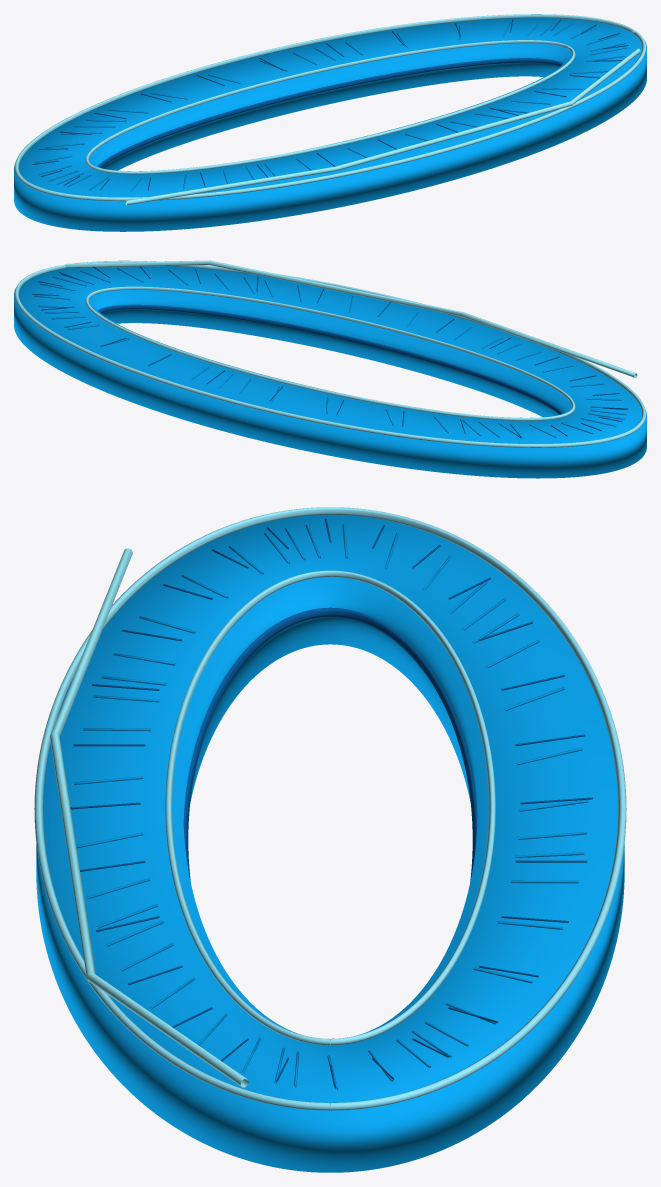
Rendered from Widerstandsband_3D_v2.glb.
3 renders of one model, top to bottom at view 1: azimuth 30°, elevation 25°; view 2: azimuth 150°, elevation 25°; view 3: azimuth 270°, elevation 25°, orthographic. The views are drawn at different scales.
Visible parts, largest first — view 1: Widerstandsband_3D_v2__web_glossy_blue_elastic_resistance_ba, Widerstandsband_3D_v2__web_pale_cyan_stretched_highlight_on_, Widerstandsband_3D_v2__web_v2_extra_glossy_cyan_resistance_b, Widerstandsband_3D_v2__web_darker_blue_shadowed_inner_resist, Widerstandsband_3D_v2__web_subtle_woven_diagonal_texture_on_, Widerstandsband_3D_v2__web_v2_extra_darker_blue_resistance_b; view 2: Widerstandsband_3D_v2__web_glossy_blue_elastic_resistance_ba, Widerstandsband_3D_v2__web_pale_cyan_stretched_highlight_on_, Widerstandsband_3D_v2__web_v2_extra_glossy_cyan_resistance_b, Widerstandsband_3D_v2__web_darker_blue_shadowed_inner_resist, Widerstandsband_3D_v2__web_subtle_woven_diagonal_texture_on_, Widerstandsband_3D_v2__web_v2_extra_darker_blue_resistance_b; view 3: Widerstandsband_3D_v2__web_glossy_blue_elastic_resistance_ba, Widerstandsband_3D_v2__web_pale_cyan_stretched_highlight_on_, Widerstandsband_3D_v2__web_subtle_woven_diagonal_texture_on_, Widerstandsband_3D_v2__web_v2_extra_glossy_cyan_resistance_b, Widerstandsband_3D_v2__web_darker_blue_shadowed_inner_resist, Widerstandsband_3D_v2__web_v2_extra_darker_blue_resistance_b.
Part boxes in pixels (box(x1,y1,x2,y2)): Widerstandsband_3D_v2__web_glossy_blue_elastic_resistance_ba: box(14, 18, 646, 231); Widerstandsband_3D_v2__web_pale_cyan_stretched_highlight_on_: box(14, 14, 646, 201); Widerstandsband_3D_v2__web_v2_extra_glossy_cyan_resistance_b: box(125, 48, 640, 205); Widerstandsband_3D_v2__web_darker_blue_shadowed_inner_resist: box(98, 58, 562, 167); Widerstandsband_3D_v2__web_subtle_woven_diagonal_texture_on_: box(34, 21, 626, 191); Widerstandsband_3D_v2__web_v2_extra_darker_blue_resistance_b: box(32, 19, 628, 190); Widerstandsband_3D_v2__web_glossy_blue_elastic_resistance_ba: box(14, 266, 646, 478); Widerstandsband_3D_v2__web_pale_cyan_stretched_highlight_on_: box(14, 260, 646, 447); Widerstandsband_3D_v2__web_v2_extra_glossy_cyan_resistance_b: box(65, 260, 637, 377); Widerstandsband_3D_v2__web_darker_blue_shadowed_inner_resist: box(98, 304, 562, 414); Widerstandsband_3D_v2__web_subtle_woven_diagonal_texture_on_: box(34, 268, 626, 438); Widerstandsband_3D_v2__web_v2_extra_darker_blue_resistance_b: box(32, 266, 628, 437); Widerstandsband_3D_v2__web_glossy_blue_elastic_resistance_ba: box(36, 514, 624, 1172); Widerstandsband_3D_v2__web_pale_cyan_stretched_highlight_on_: box(34, 507, 626, 1110); Widerstandsband_3D_v2__web_subtle_woven_diagonal_texture_on_: box(73, 524, 588, 1089); Widerstandsband_3D_v2__web_v2_extra_glossy_cyan_resistance_b: box(50, 548, 248, 1087); Widerstandsband_3D_v2__web_darker_blue_shadowed_inner_resist: box(183, 607, 477, 882); Widerstandsband_3D_v2__web_v2_extra_darker_blue_resistance_b: box(70, 519, 592, 1087).
Size of the model in its own units: 1.16 by 0.07 by 0.483.
